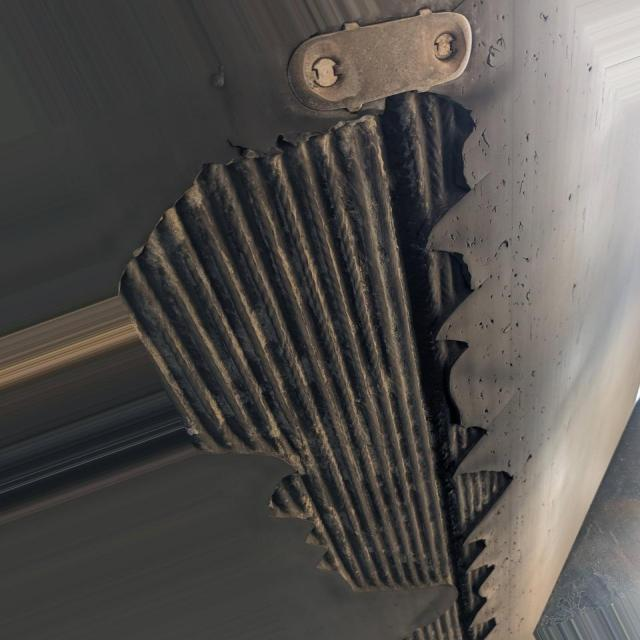Tear: (107, 90, 526, 640)
